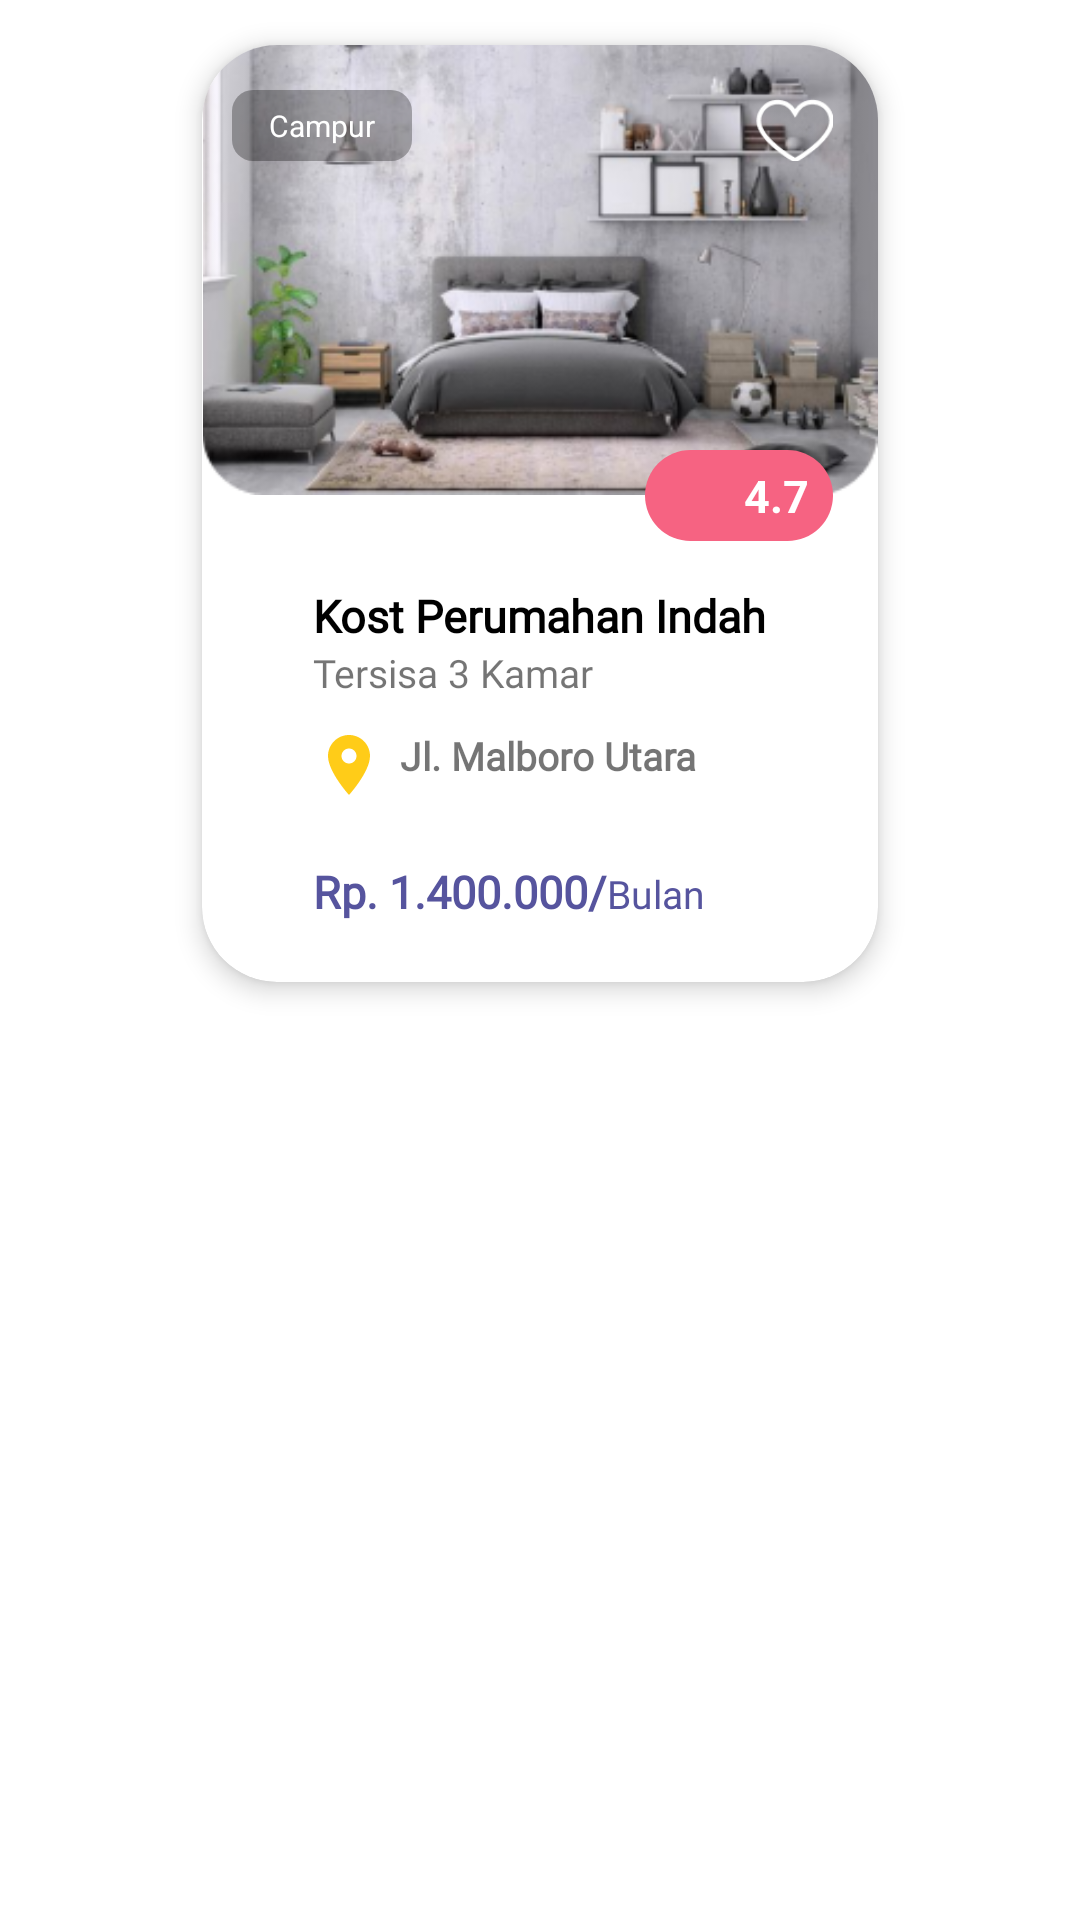

Screen size 1080 x 1920. Icon name, then its center in pixels as (x=x, y=y):
location on: (x=349, y=765)
